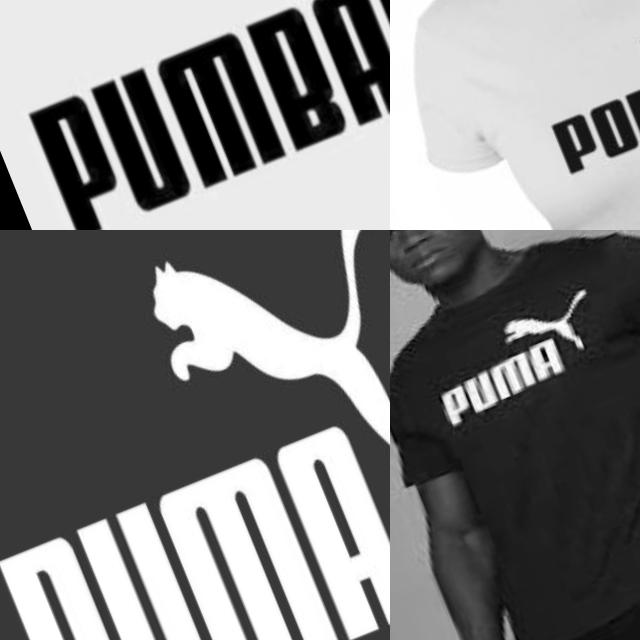PUMA_fake: (0, 0, 390, 230), (511, 0, 640, 194)
PUMA_original: (0, 230, 390, 640), (412, 278, 624, 437)
